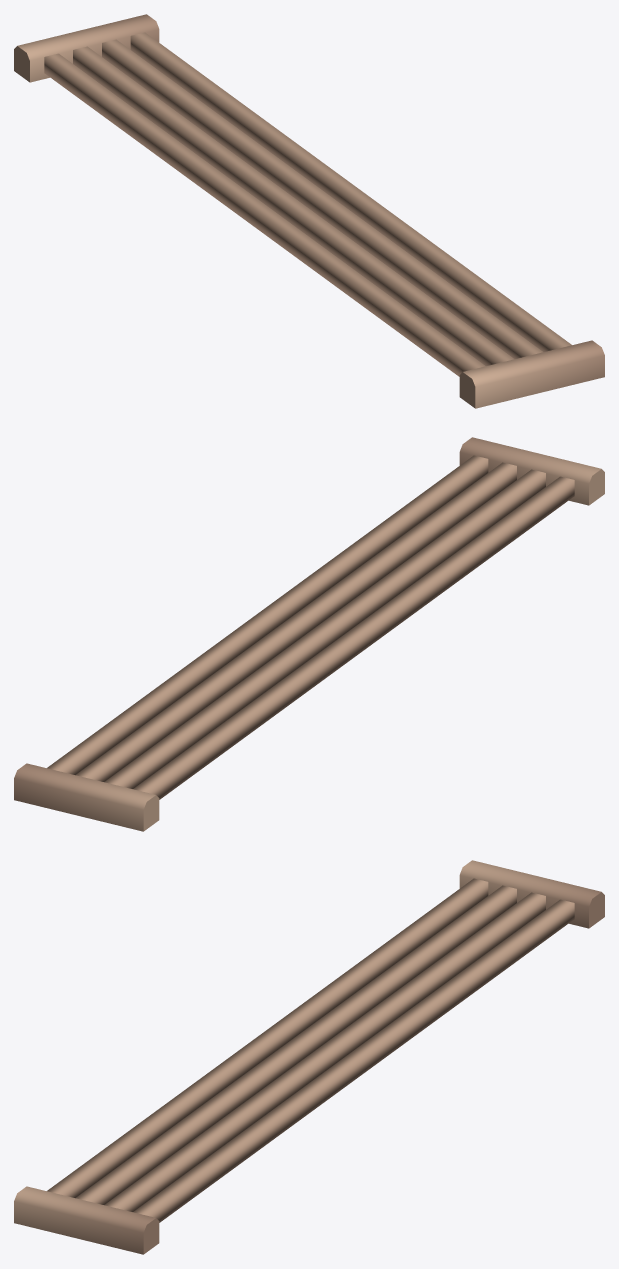
Rendered from bath-tray-wide.glb.
3 renders of one model, top to bottom at view 1: azimuth 30°, elevation 25°; view 2: azimuth 150°, elevation 25°; view 3: azimuth 330°, elevation 25°, orthographic.
Parts seen in each view (by area): view 1: bath-tray-wide; view 2: bath-tray-wide; view 3: bath-tray-wide.
Part boxes in pixels (<box>): bath-tray-wide: <box>14,14,604,408</box>; bath-tray-wide: <box>14,437,604,831</box>; bath-tray-wide: <box>14,860,604,1254</box>.
Bounding box in the file's own units: 0.2351 × 0.0477 × 1.45.
